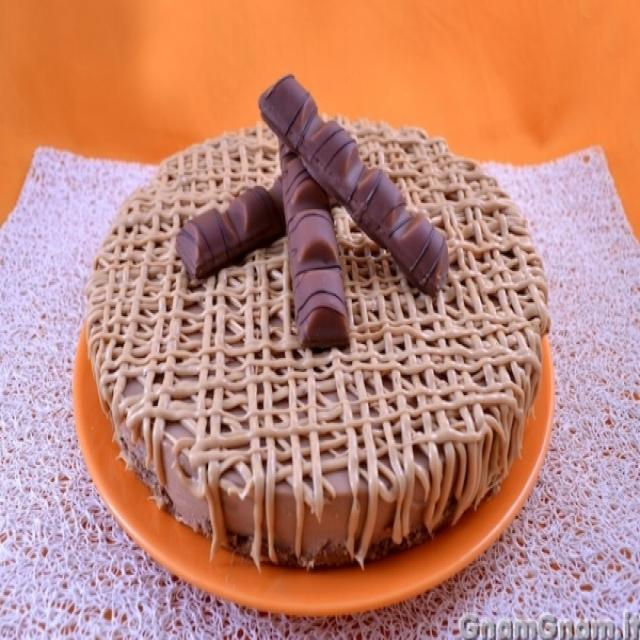Chocolate bar packaged: (256, 70, 449, 301), (177, 167, 354, 281), (276, 118, 348, 352)
